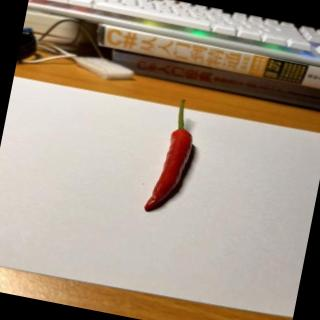Cabai Merah: (144, 96, 201, 218)
